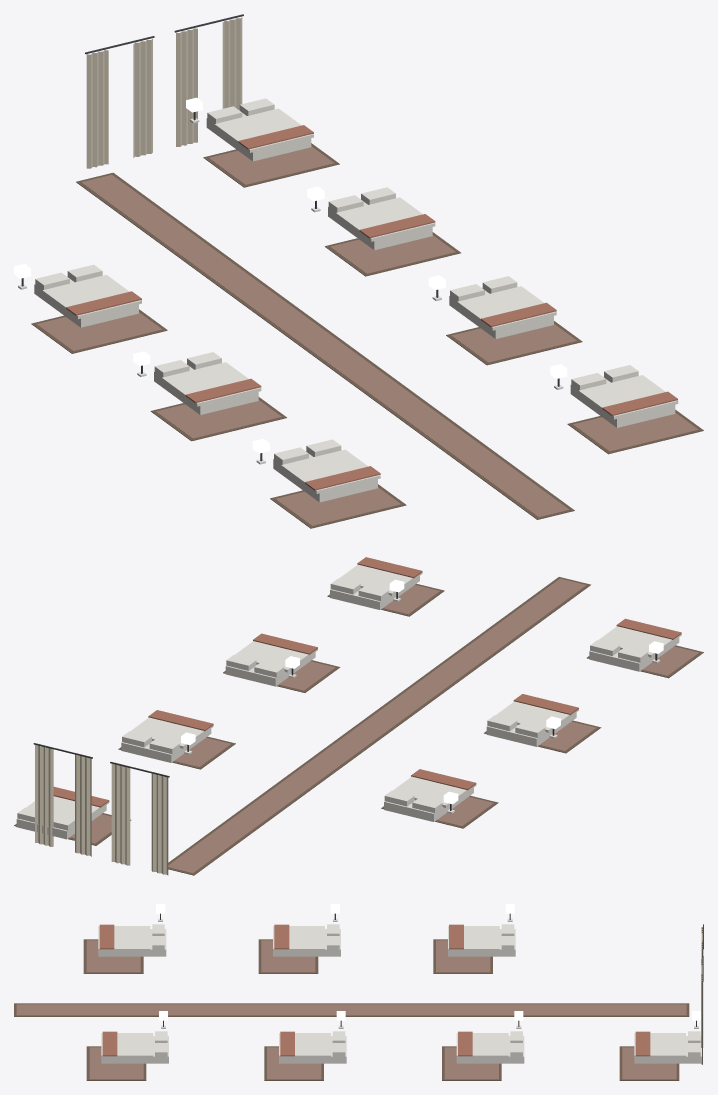
The model's file is fine-s1.glb.
3 renders of one model, top to bottom at view 1: azimuth 30°, elevation 25°; view 2: azimuth 150°, elevation 25°; view 3: azimuth 270°, elevation 25°, orthographic. The views are drawn at different scales.
Visible parts, largest first — view 1: soft-s1; view 2: soft-s1; view 3: soft-s1.
Part boxes in pixels (left/top/right/bottom): soft-s1: left=14, top=14, right=703, bottom=528; soft-s1: left=14, top=557, right=703, bottom=875; soft-s1: left=14, top=904, right=703, bottom=1080.
Bounding box in the file's own units: 9.56 × 2.71 × 19.62.
